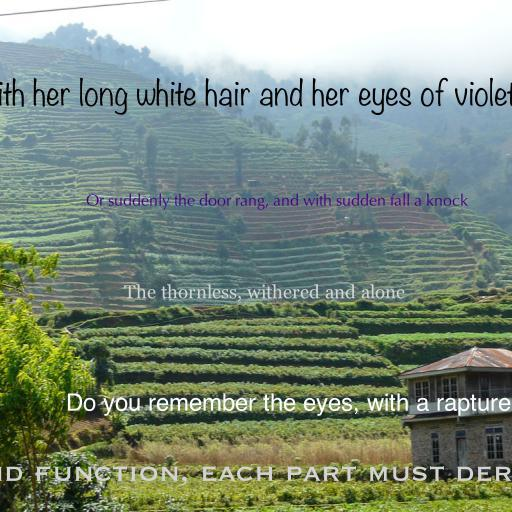Copperplate: (0, 464, 512, 486)
Georgia: (123, 284, 405, 302)
Noteworthy: (0, 77, 512, 116)
Optima: (86, 193, 468, 210)
SignPainter: (65, 393, 511, 416)
